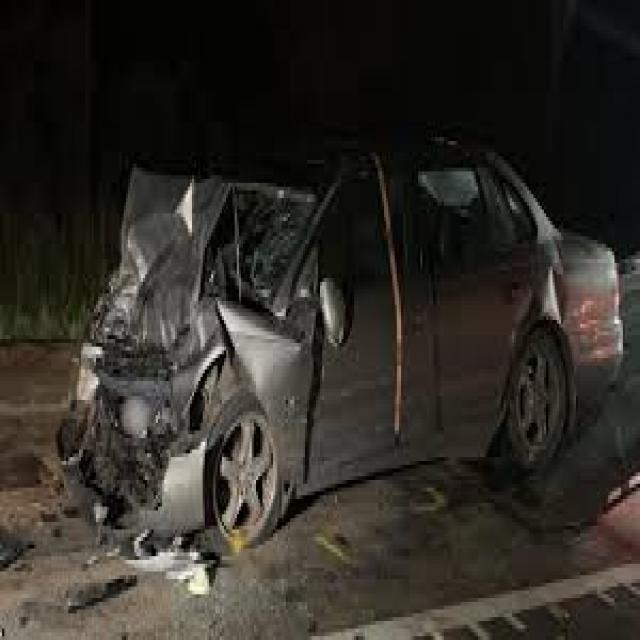accident: (53, 118, 611, 572)
